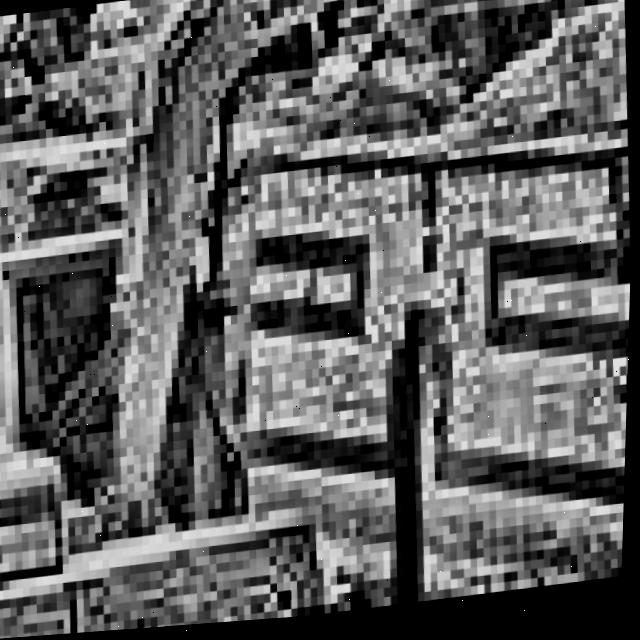excavator: (0, 185, 464, 640)
